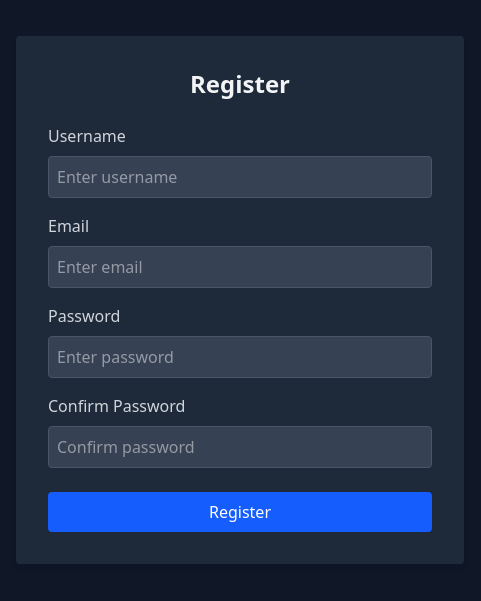
Scenario: Register Page › displays error message when passwords do not match
Type "newuser" into the field with placeholder "Enter username" at (240, 177), box top-left (48, 156), bottom-right (432, 198)
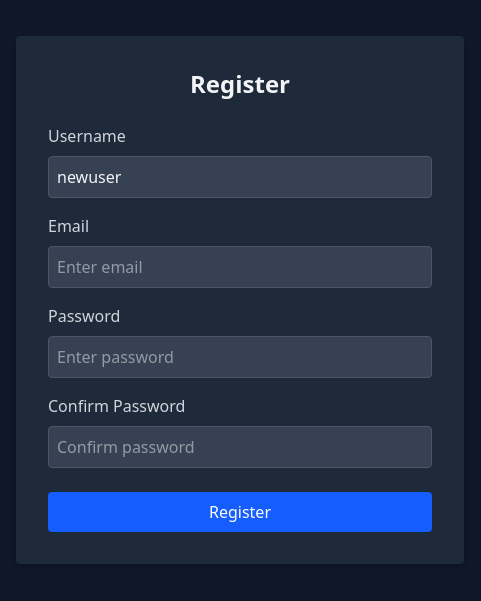
Type "newuser@example.com" into the field with placeholder "Enter email" at (240, 267), box top-left (48, 246), bottom-right (432, 288)
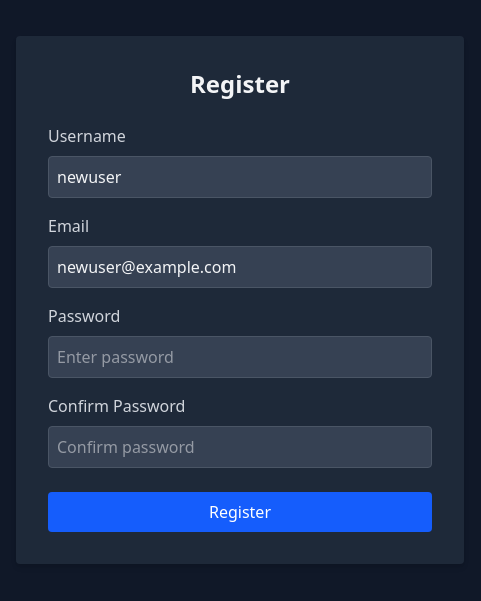
Type "password123" into the password field with placeholder "Enter password" at (240, 357), box top-left (48, 336), bottom-right (432, 378)
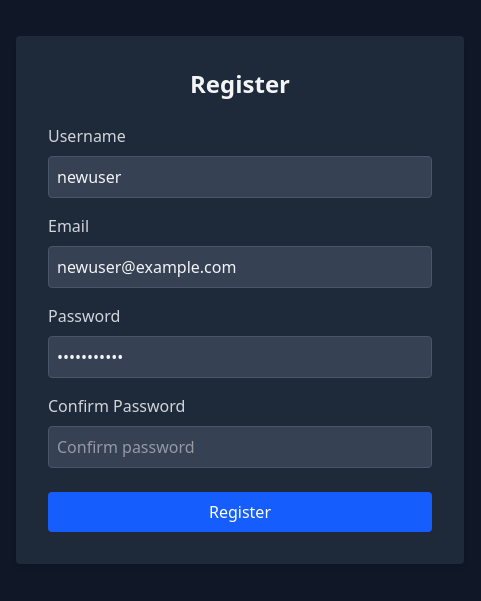
Type "differentpassword" into the password field with placeholder "Confirm Password" at (240, 447), box top-left (48, 426), bottom-right (432, 468)
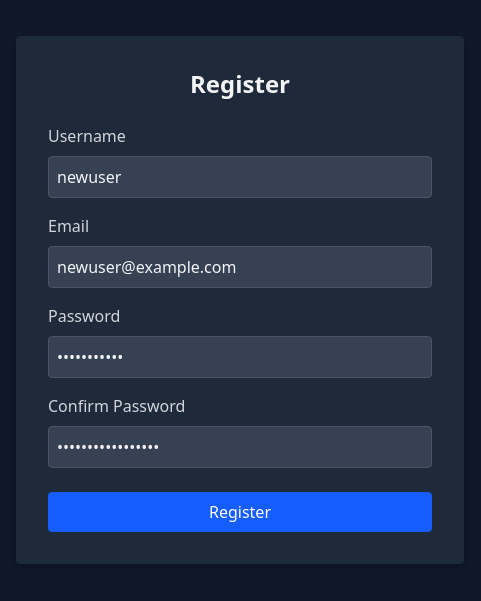
Click the button "Register" at (240, 512), box top-left (48, 492), bottom-right (432, 532)
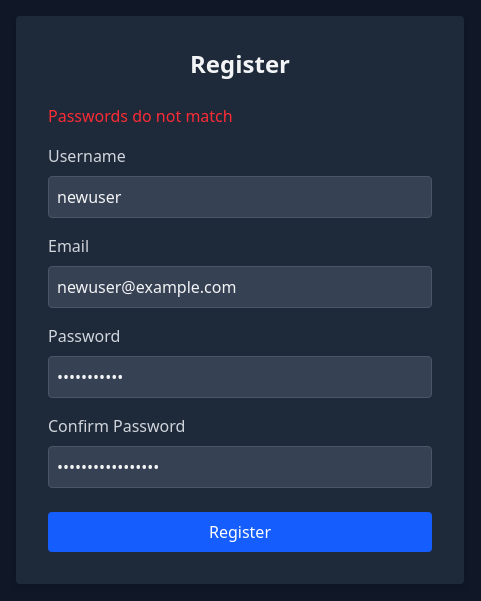
Result: the text "Passwords do not match" is shown at top-left (48, 105), bottom-right (233, 127)
